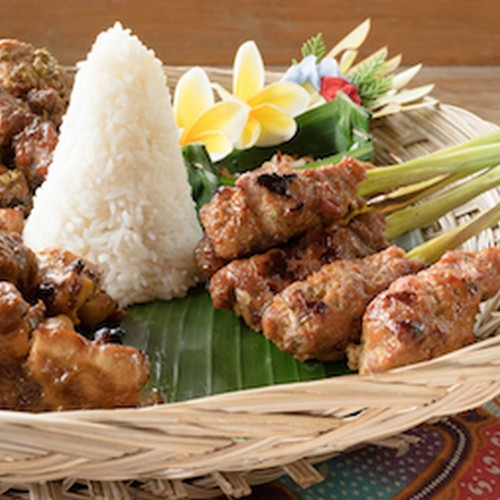nasi campur bali: (12, 131, 414, 373)
